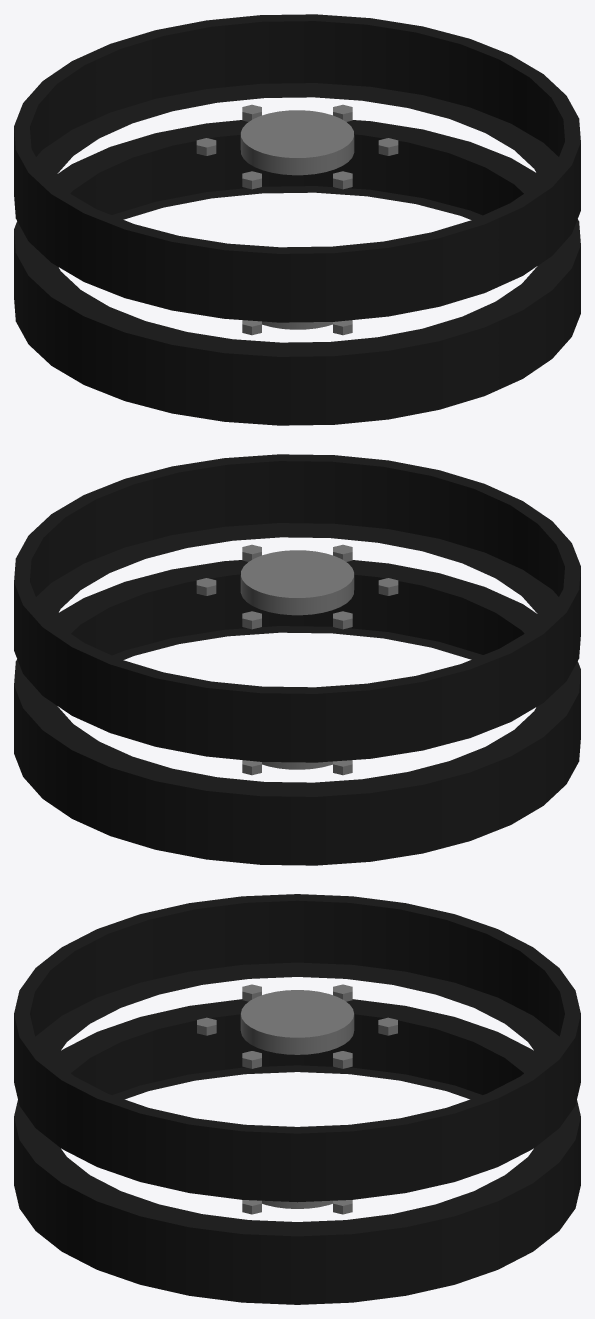
The model's file is LunTai_FuZhongLun_1X3.FBX.
3 views of the same model, one above another, from view 1: azimuth 30°, elevation 25°; view 2: azimuth 150°, elevation 25°; view 3: azimuth 270°, elevation 25° (orthographic).
Visible parts, largest first — view 1: Box003; view 2: Box003; view 3: Box003.
Boxes of the visible parts, x1,y1,x2,y2 form: Box003: [14, 14, 580, 425]; Box003: [14, 454, 580, 865]; Box003: [14, 894, 580, 1304].
Bounding box in the file's own units: 3 × 1 × 3.
